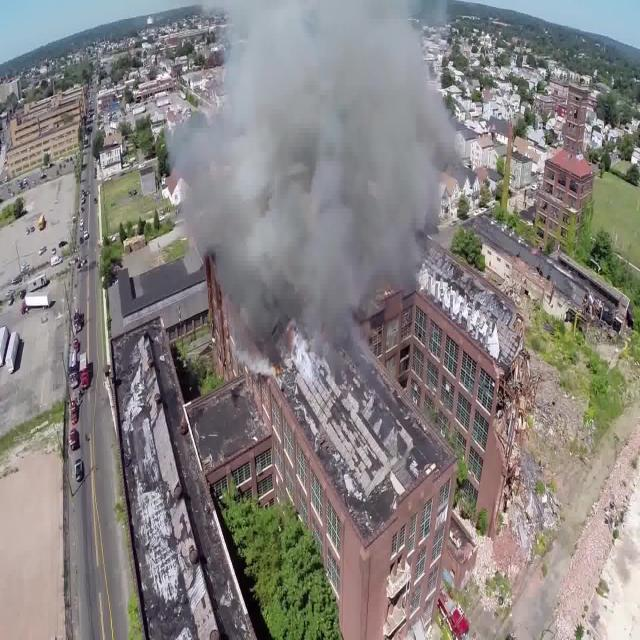Smoke: (184, 0, 493, 376)
